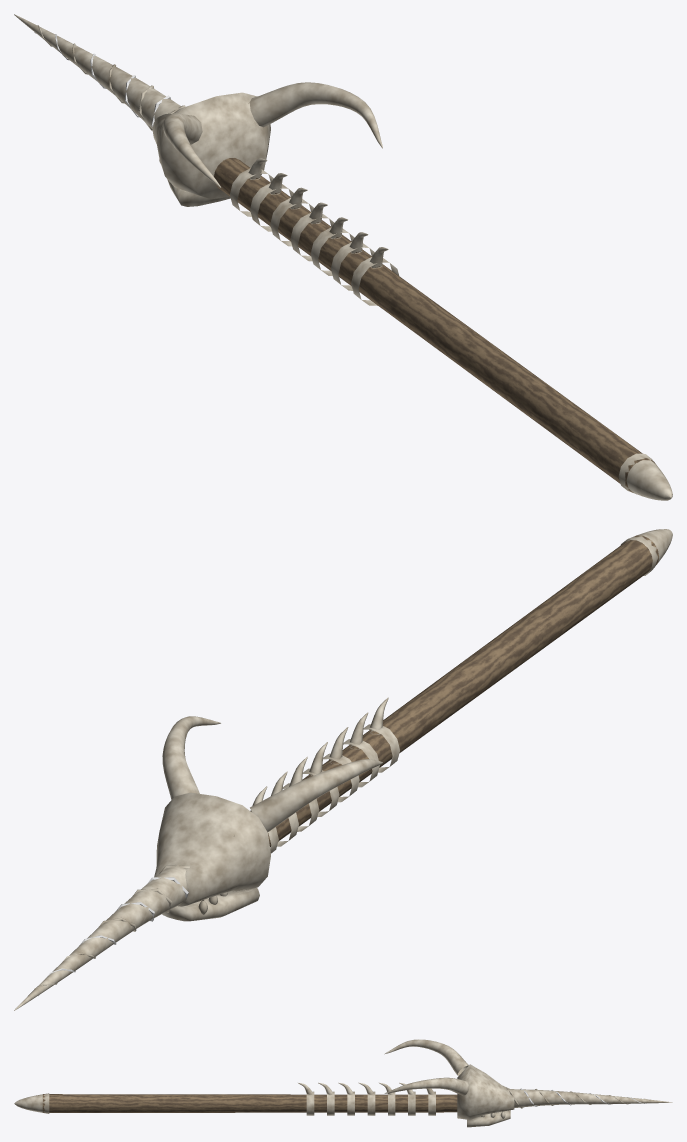
Rendered from Spear11.fbx.
The picture shows the model from 3 angles, top to bottom: view 1: azimuth 30°, elevation 25°; view 2: azimuth 150°, elevation 25°; view 3: azimuth 270°, elevation 25°; orthographic projection. The views are drawn at different scales.
Visible parts, largest first — view 1: Spear11_Body; view 2: Spear11_Body; view 3: Spear11_Body.
Part boxes in pixels (x1,y1,x2,y2): Spear11_Body: [14, 14, 672, 500]; Spear11_Body: [14, 529, 672, 1010]; Spear11_Body: [14, 1039, 672, 1127].
Size of the model in its own units: 1.71 by 1.07 by 10.41.
2 materials, 1 textured.
